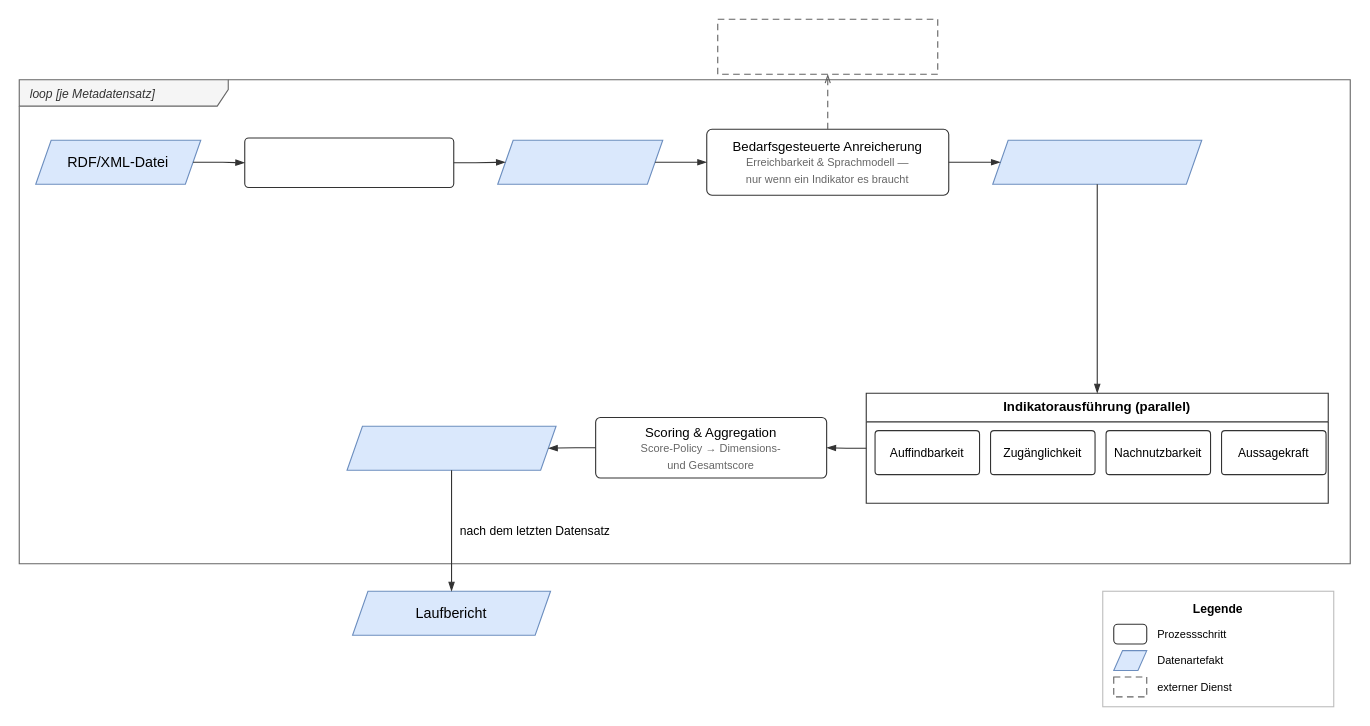
This 1370x726 diagram has some shape labels left out. Here are the shapes that lost their labels. From the top down, the centre of each, then its label:
At [827,46]: "Externe Dienste HTTP-Endpunkte · Sprachmodell · SHACL-Dienst".
At [349,162]: "Parsen & Faktenextraktion".
At [580,161]: "DatasetContext".
At [1097,161]: "DatasetContext, angereichert".
At [451,447]: "Bewertungsergebnis (JSON)".
